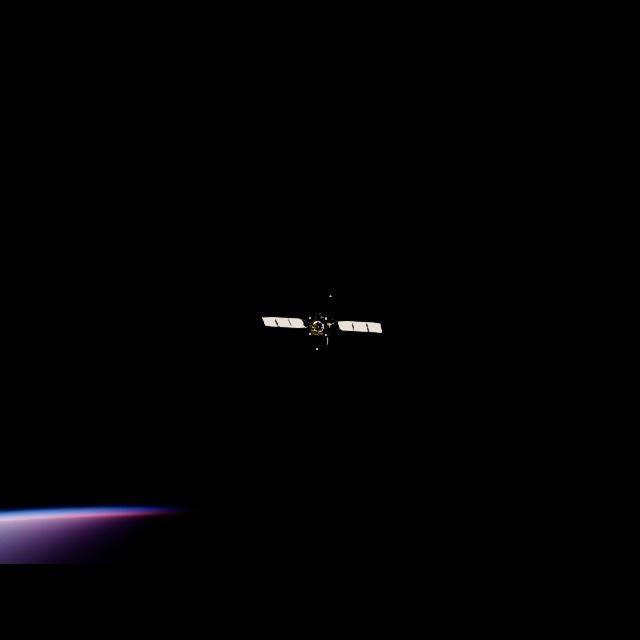medium_debris: (262, 298, 383, 351)
